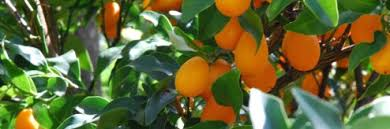orange: (283, 24, 321, 73), (173, 57, 208, 96), (236, 31, 268, 73), (352, 11, 385, 49)
